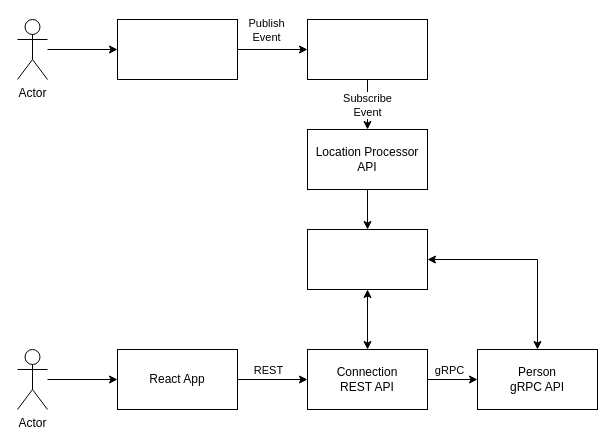
Image size: 615x448. Some labels were removed from this diagram. The box of each missing label's shape, as (x1, y1, x2, y2) in pixels:
DB: (306, 228, 428, 290)
Kafka: (306, 18, 428, 80)
Location Ingestion REST API: (116, 18, 238, 80)
